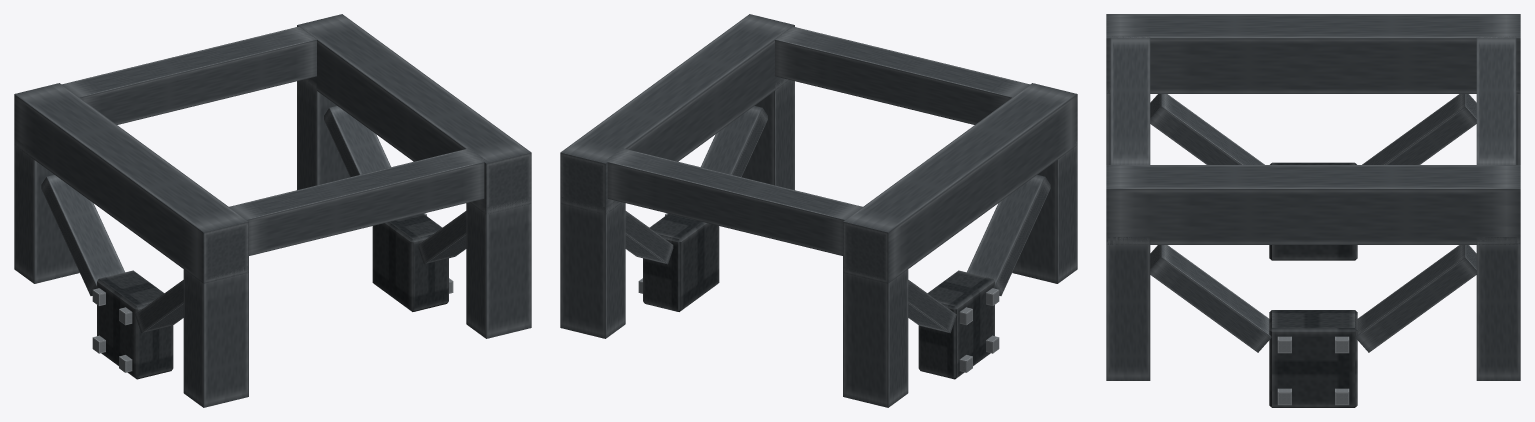
3 views of the same model, side by side, from view 1: azimuth 30°, elevation 25°; view 2: azimuth 150°, elevation 25°; view 3: azimuth 270°, elevation 25° (orthographic). The views are drawn at different scales.
Visible parts, largest first — view 1: BogieFrame; view 2: BogieFrame; view 3: BogieFrame.
Boxes of the visible parts, x1,y1,x2,y2 form: BogieFrame: (14, 14, 531, 407); BogieFrame: (560, 14, 1077, 407); BogieFrame: (1106, 14, 1520, 407).
Bounding box in the file's own units: 0.47 × 0.28 × 0.47.
Materials: 1 (1 with a texture image).
